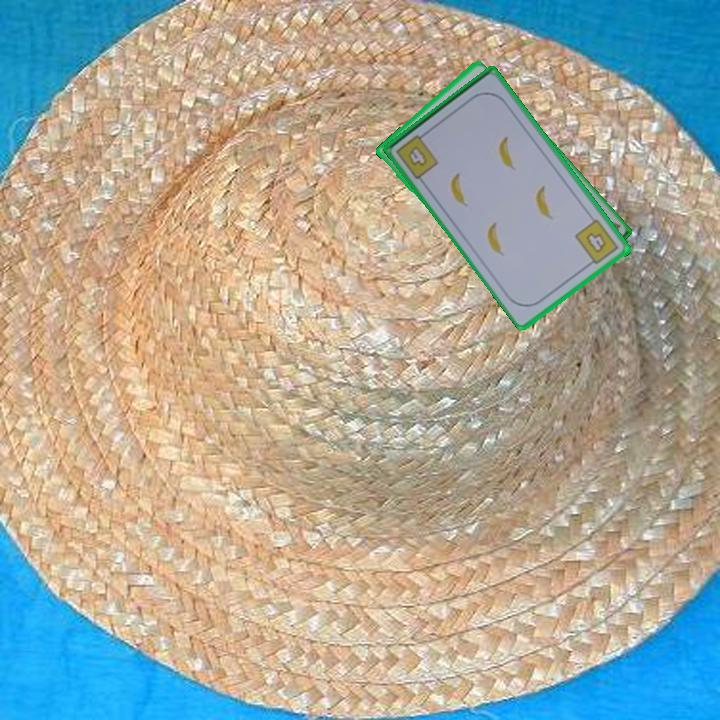4b: (571, 216, 622, 270), (405, 142, 431, 170)
